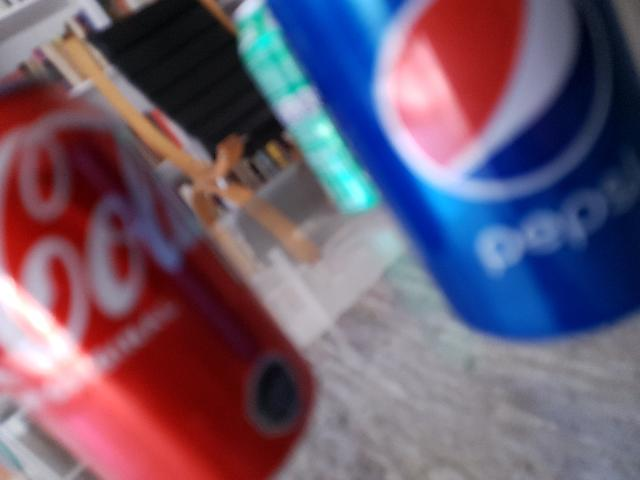coke: (1, 68, 326, 480)
pepsi: (255, 0, 640, 344)
